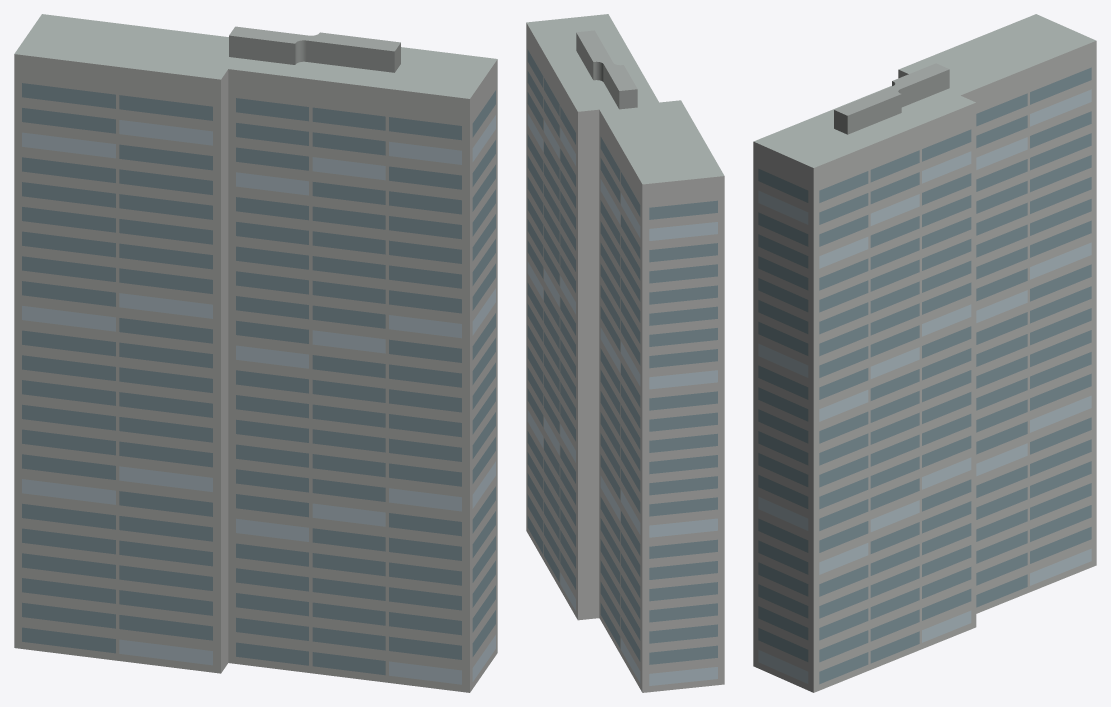
File: fallback-gwanak-dream-town-117.glb
The picture shows the model from 3 angles, left to right: view 1: azimuth 30°, elevation 25°; view 2: azimuth 150°, elevation 25°; view 3: azimuth 270°, elevation 25°; orthographic projection. The views are drawn at different scales.
Visible parts, largest first — view 1: fallback-gwanak-dream-town-117; view 2: fallback-gwanak-dream-town-117; view 3: fallback-gwanak-dream-town-117.
Part boxes in pixels (box(x1,y1,x2,y2)): fallback-gwanak-dream-town-117: box(14, 14, 497, 692); fallback-gwanak-dream-town-117: box(526, 14, 724, 692); fallback-gwanak-dream-town-117: box(753, 14, 1096, 692).
Size of the model in its own units: 41.96 by 69 by 39.45.
